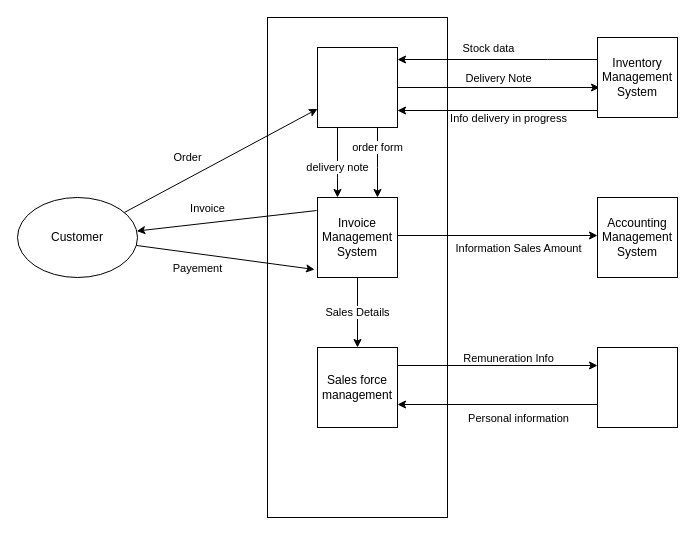
The diagram is 695 pixels wide and 535 high, and some of its shapes have lost their labels. The centre of each missing label's shape, as x and y in pixels:
"Order Management System" goes at [357,87].
"Sales Person Management System" goes at [637,387].
